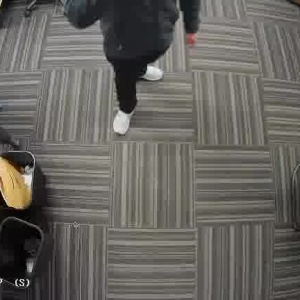person: (83, 0, 198, 143)
